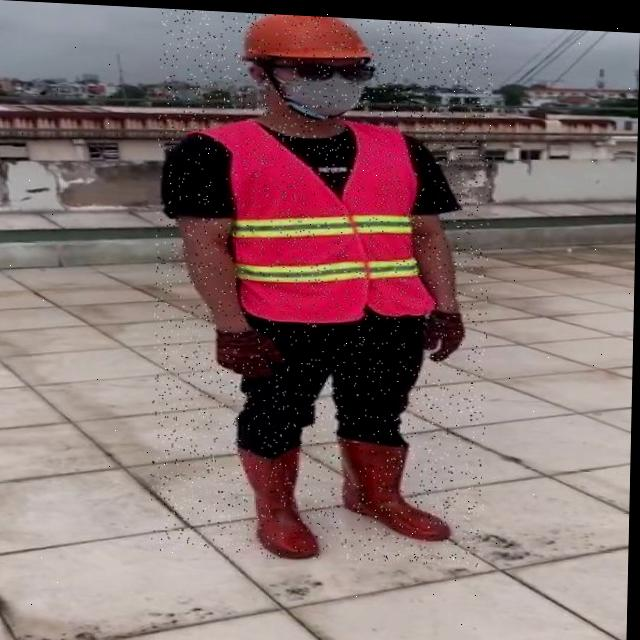Gloves: (215, 323, 288, 378), (422, 304, 466, 359)
Helmet: (240, 10, 373, 66)
Safety-Boot: (337, 428, 455, 537), (237, 438, 323, 556)
Safety-Vest: (192, 109, 441, 326)
